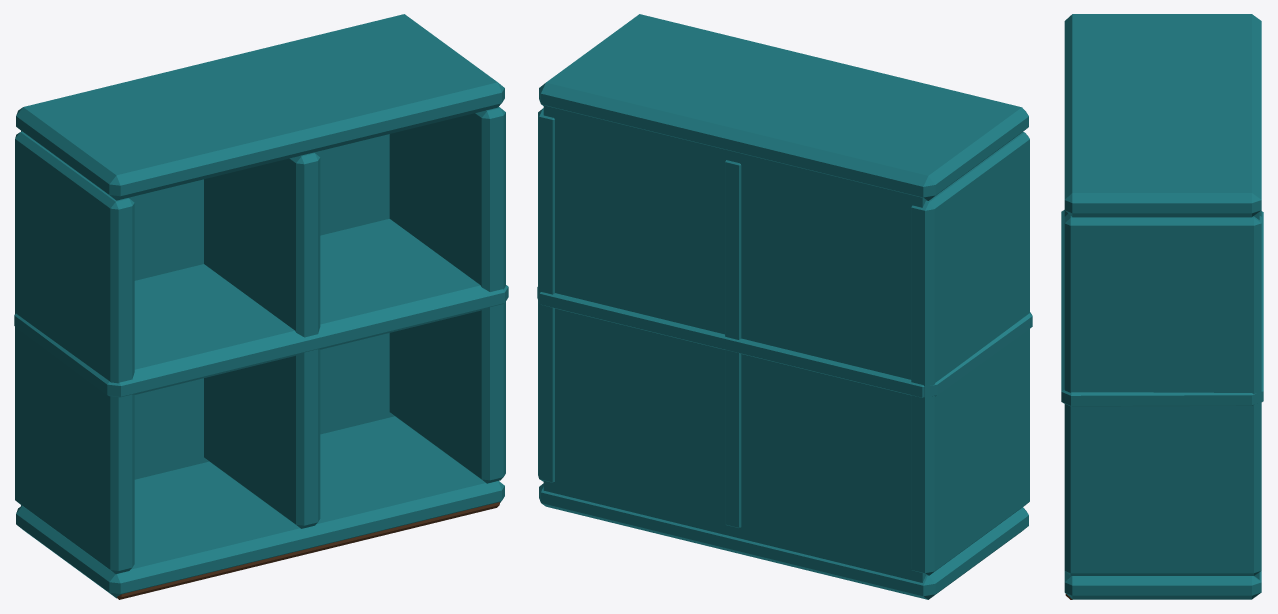
File: cube_shelf.glb
3 views of the same model, side by side, from view 1: azimuth 30°, elevation 25°; view 2: azimuth 150°, elevation 25°; view 3: azimuth 270°, elevation 25° (orthographic). The views are drawn at different scales.
Parts seen in each view (by area): view 1: cube_shelf; view 2: cube_shelf; view 3: cube_shelf.
Boxes of the visible parts, x1,y1,x2,y2 form: cube_shelf: (14,14,508,599); cube_shelf: (537,14,1032,599); cube_shelf: (1061,14,1263,599).
Size of the model in its own units: 0.9137 by 0.9228 by 0.4148.
